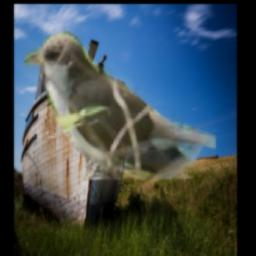Cuckoo: (24, 31, 216, 180)
